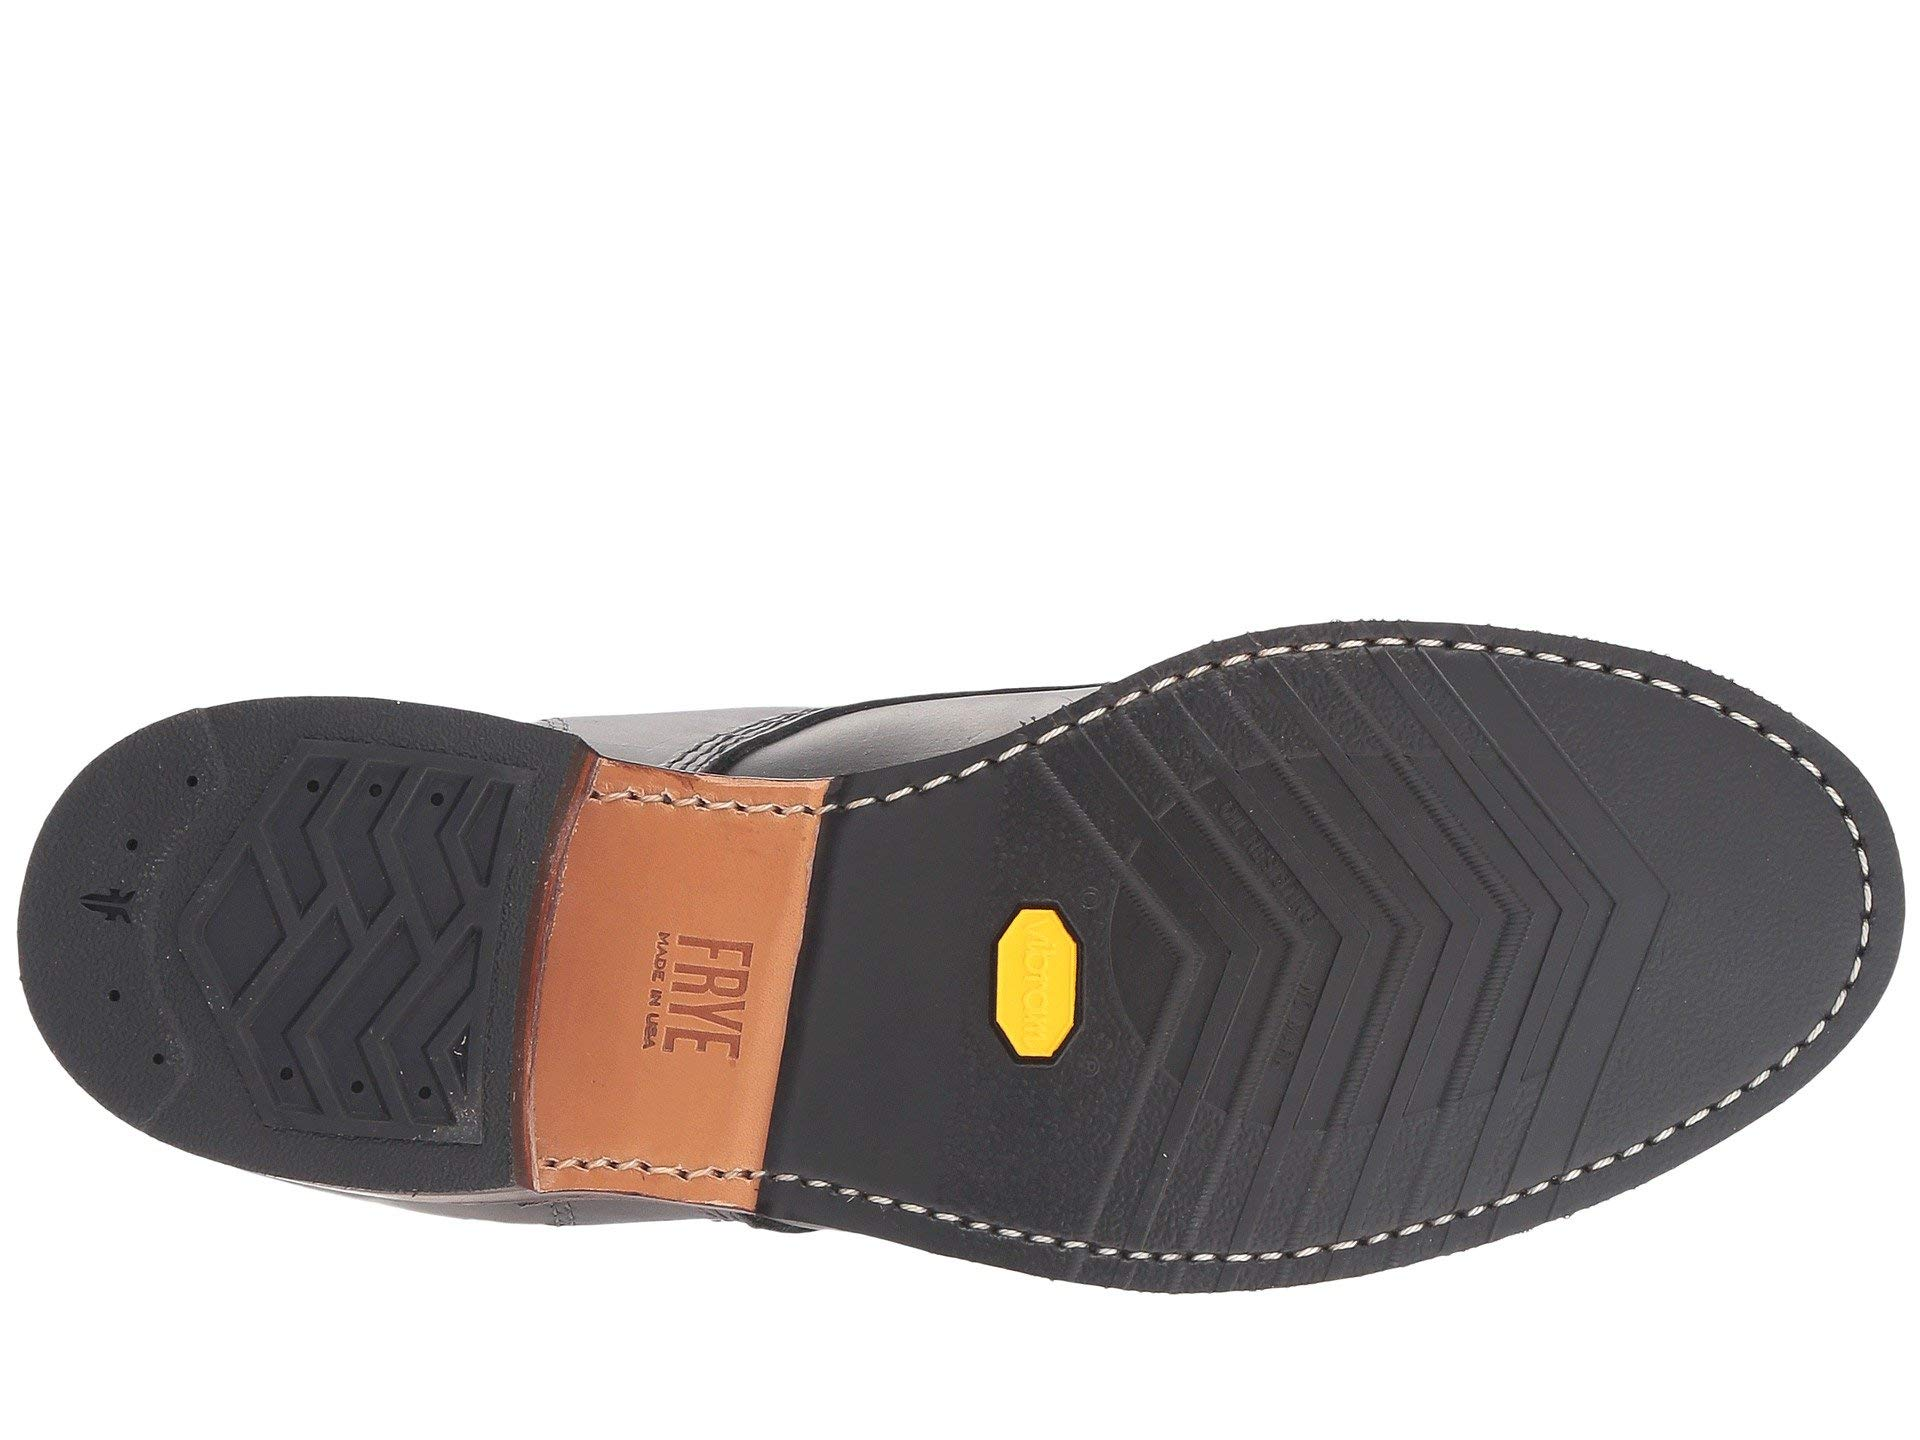chevron: (171, 750, 553, 1150), (1249, 788, 1568, 1142)
polygon: (946, 889, 1185, 1131)
quad: (171, 750, 553, 1150)
text: (946, 889, 1185, 1131)
triangle: (171, 750, 553, 1150)
